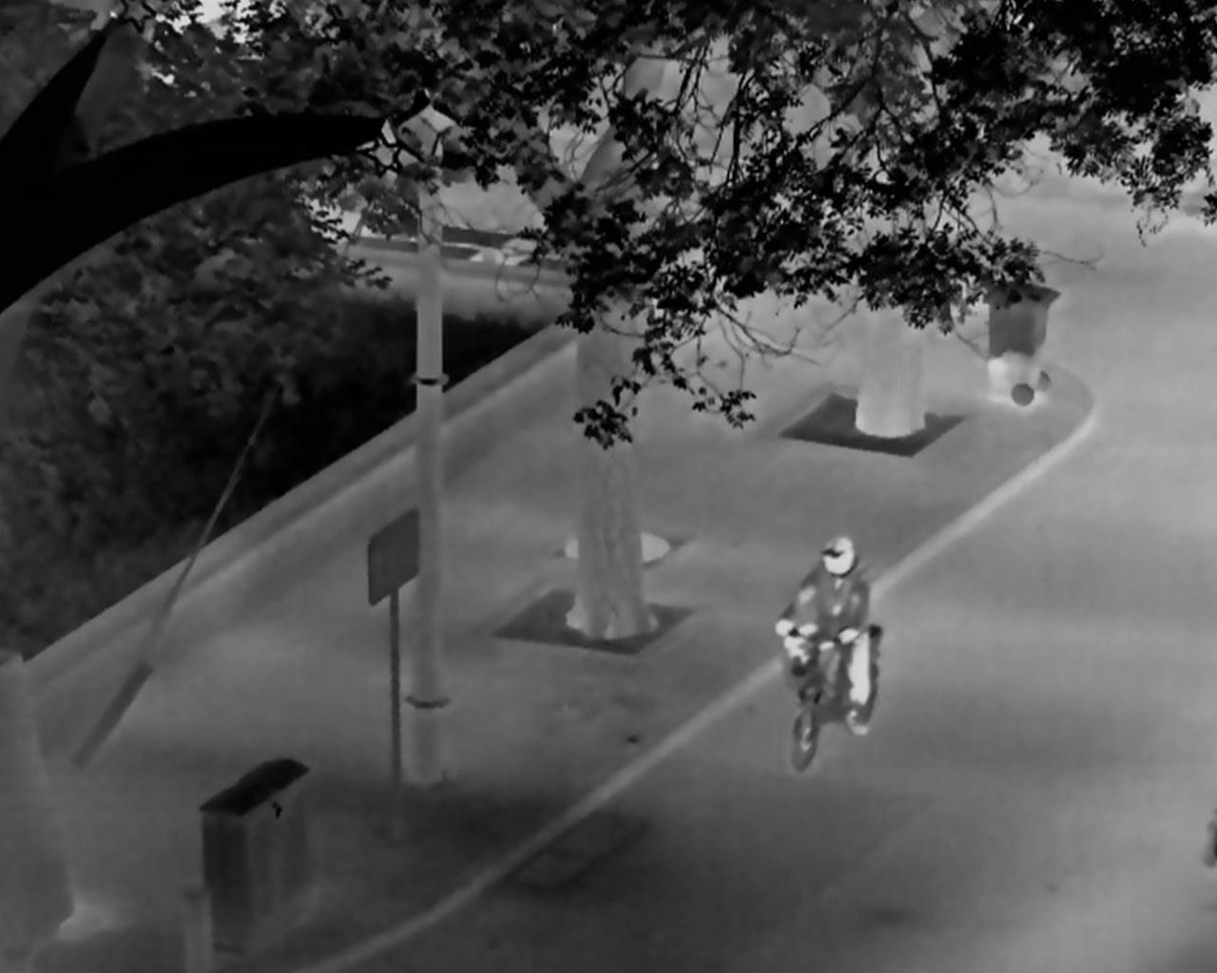person: (774, 534, 873, 734)
